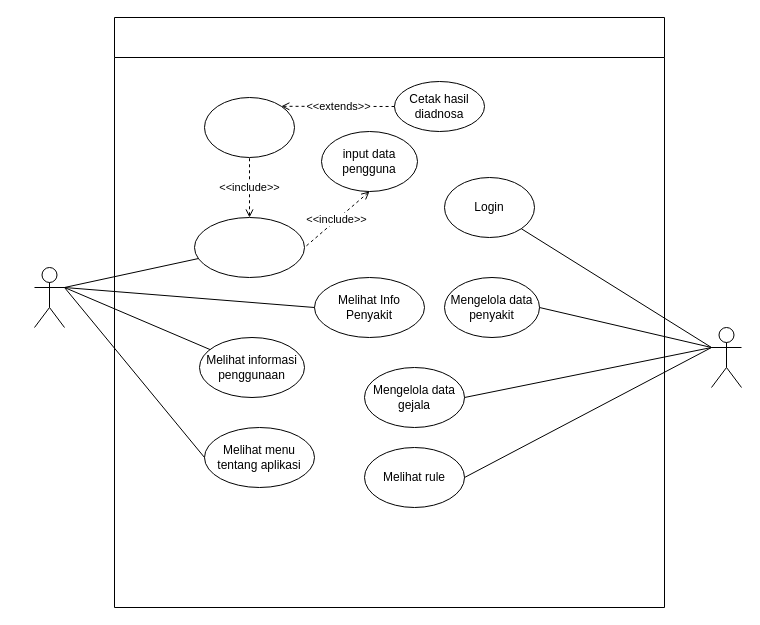
Image size: 760x625. Some labels were removed from this diagram. The centre of each missing label's shape, as x and y in pixels:
"Admin" belongs at point (726, 357).
"Lihat hasil diagnosa" belongs at point (249, 127).
"Melakukan diagnosa" belongs at point (249, 247).
"Pengunjung" belongs at point (49, 297).
